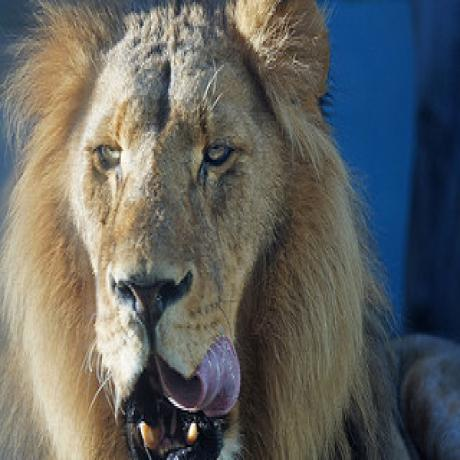Lion: (0, 0, 367, 460)
